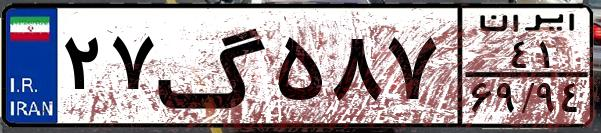1: (537, 27, 568, 80)
2: (57, 26, 110, 100)
4: (560, 70, 590, 125), (508, 27, 537, 80)
5: (270, 28, 330, 110)
6: (470, 70, 495, 125)
7: (385, 28, 445, 110), (110, 28, 156, 98)
8: (330, 28, 385, 110)
9: (495, 70, 520, 125), (535, 70, 560, 125)
گ: (156, 12, 270, 120)
